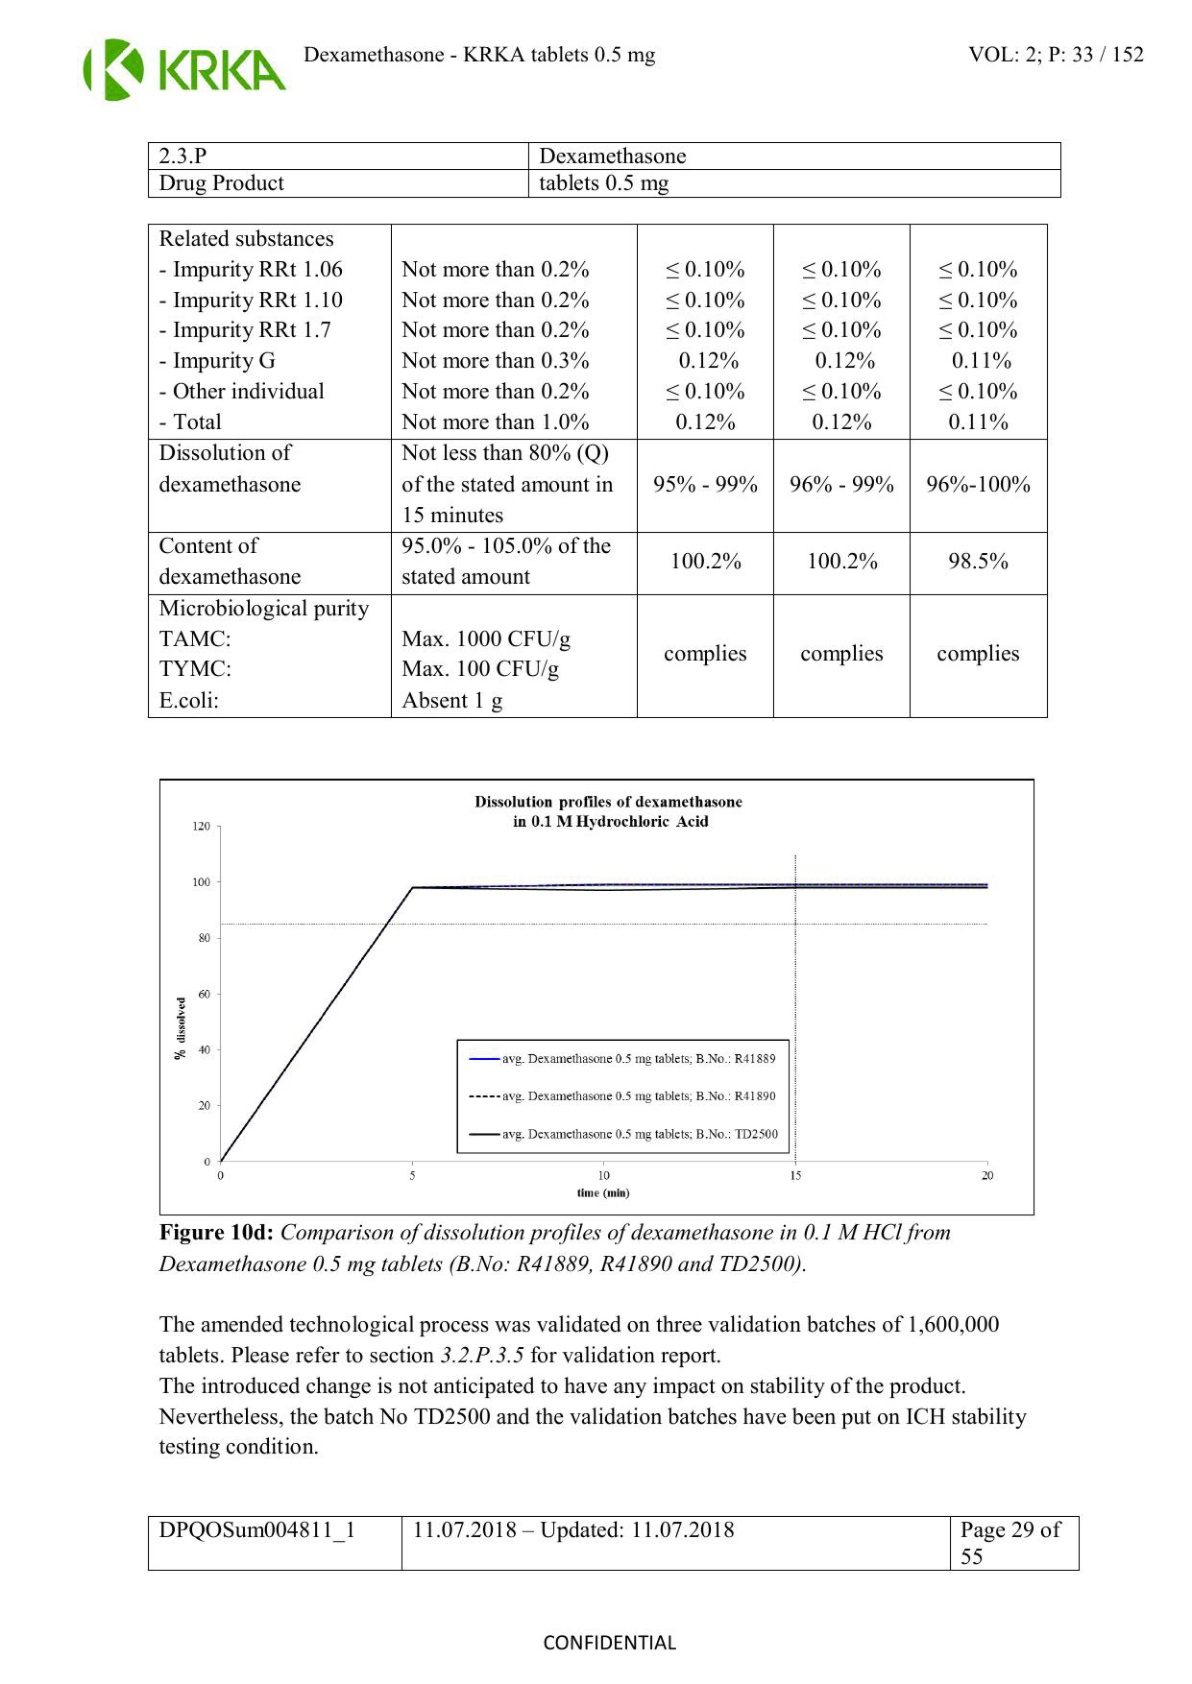full_lined: (146, 222, 1048, 718), (146, 141, 1062, 199), (146, 1515, 1081, 1572)
